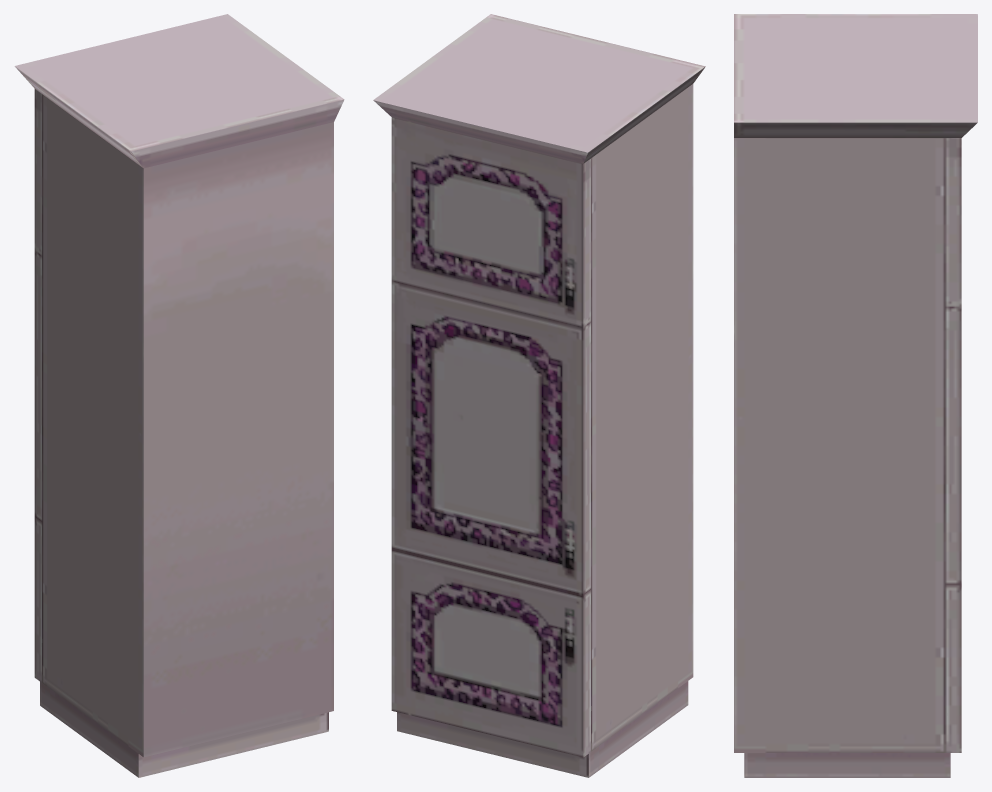
The model's file is furni_0200093_02.FBX.
The picture shows the model from 3 angles, left to right: view 1: azimuth 30°, elevation 25°; view 2: azimuth 150°, elevation 25°; view 3: azimuth 270°, elevation 25°; orthographic projection. The views are drawn at different scales.
Parts seen in each view (by area): view 1: furni_0200093_02; view 2: furni_0200093_02; view 3: furni_0200093_02.
Boxes of the visible parts, x1,y1,x2,y2 form: furni_0200093_02: (14,14,344,777); furni_0200093_02: (373,14,705,777); furni_0200093_02: (734,14,977,777).
Bounding box in the file's own units: 77.73 × 220 × 73.75.
